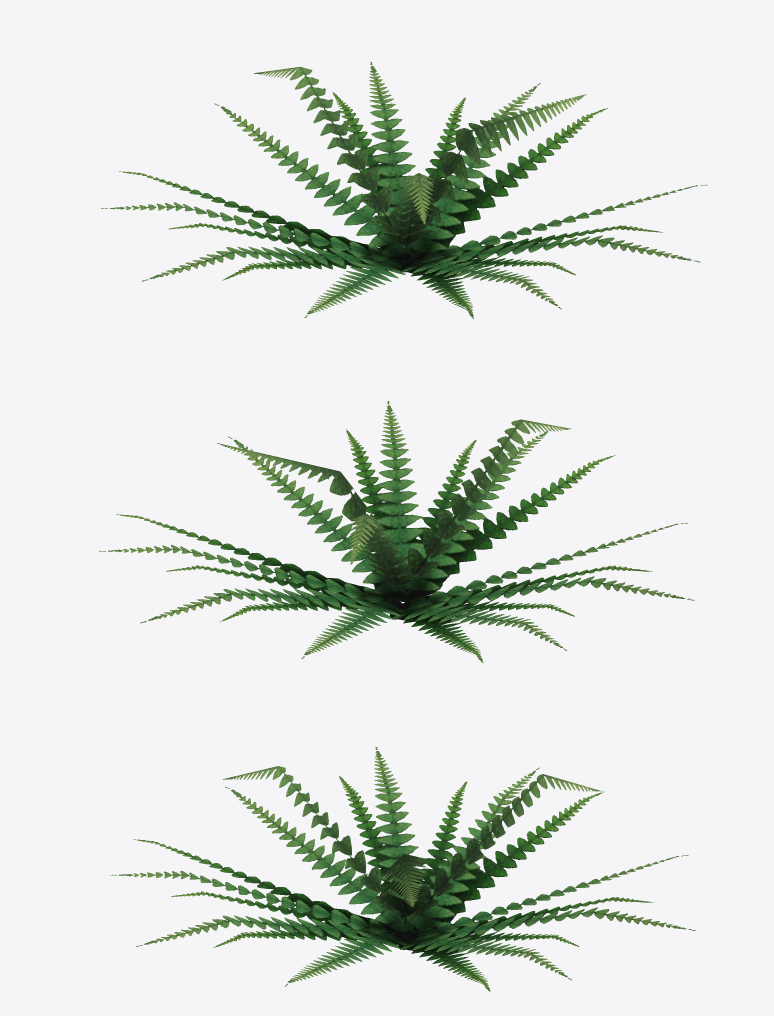
File: frst_fern_green_a1_l1.fbx
3 views of the same model, one above another, from view 1: azimuth 30°, elevation 25°; view 2: azimuth 150°, elevation 25°; view 3: azimuth 270°, elevation 25° (orthographic). The views are drawn at different scales.
Parts seen in each view (by area): view 1: mesh_node; view 2: mesh_node; view 3: mesh_node.
Part boxes in pixels (box(x1,y1,x2,y2)): mesh_node: box(101, 62, 707, 318); mesh_node: box(99, 401, 694, 662); mesh_node: box(110, 747, 695, 991).
Size of the model in its own units: 2.94 by 0.7022 by 3.07.
